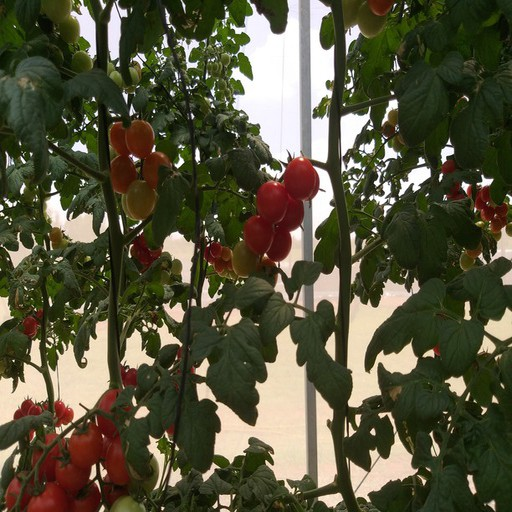green tomato bunch: (73, 51, 141, 96), (50, 226, 106, 279), (35, 1, 79, 42)
mixed tomato bunch: (437, 159, 512, 273), (206, 242, 248, 284)
red tomato bunch: (7, 390, 140, 512), (240, 157, 319, 276), (107, 119, 172, 220), (119, 363, 201, 440), (5, 305, 50, 375), (13, 396, 75, 440), (129, 232, 164, 275)
